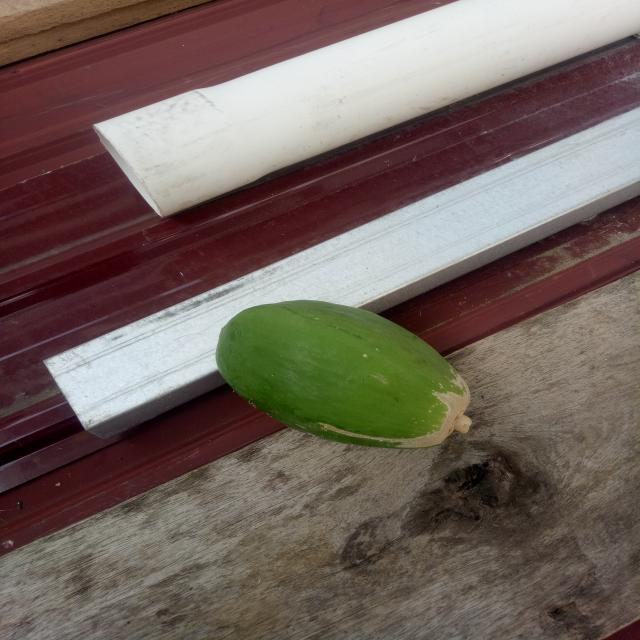Pepaya unrippen: (213, 299, 481, 459)
